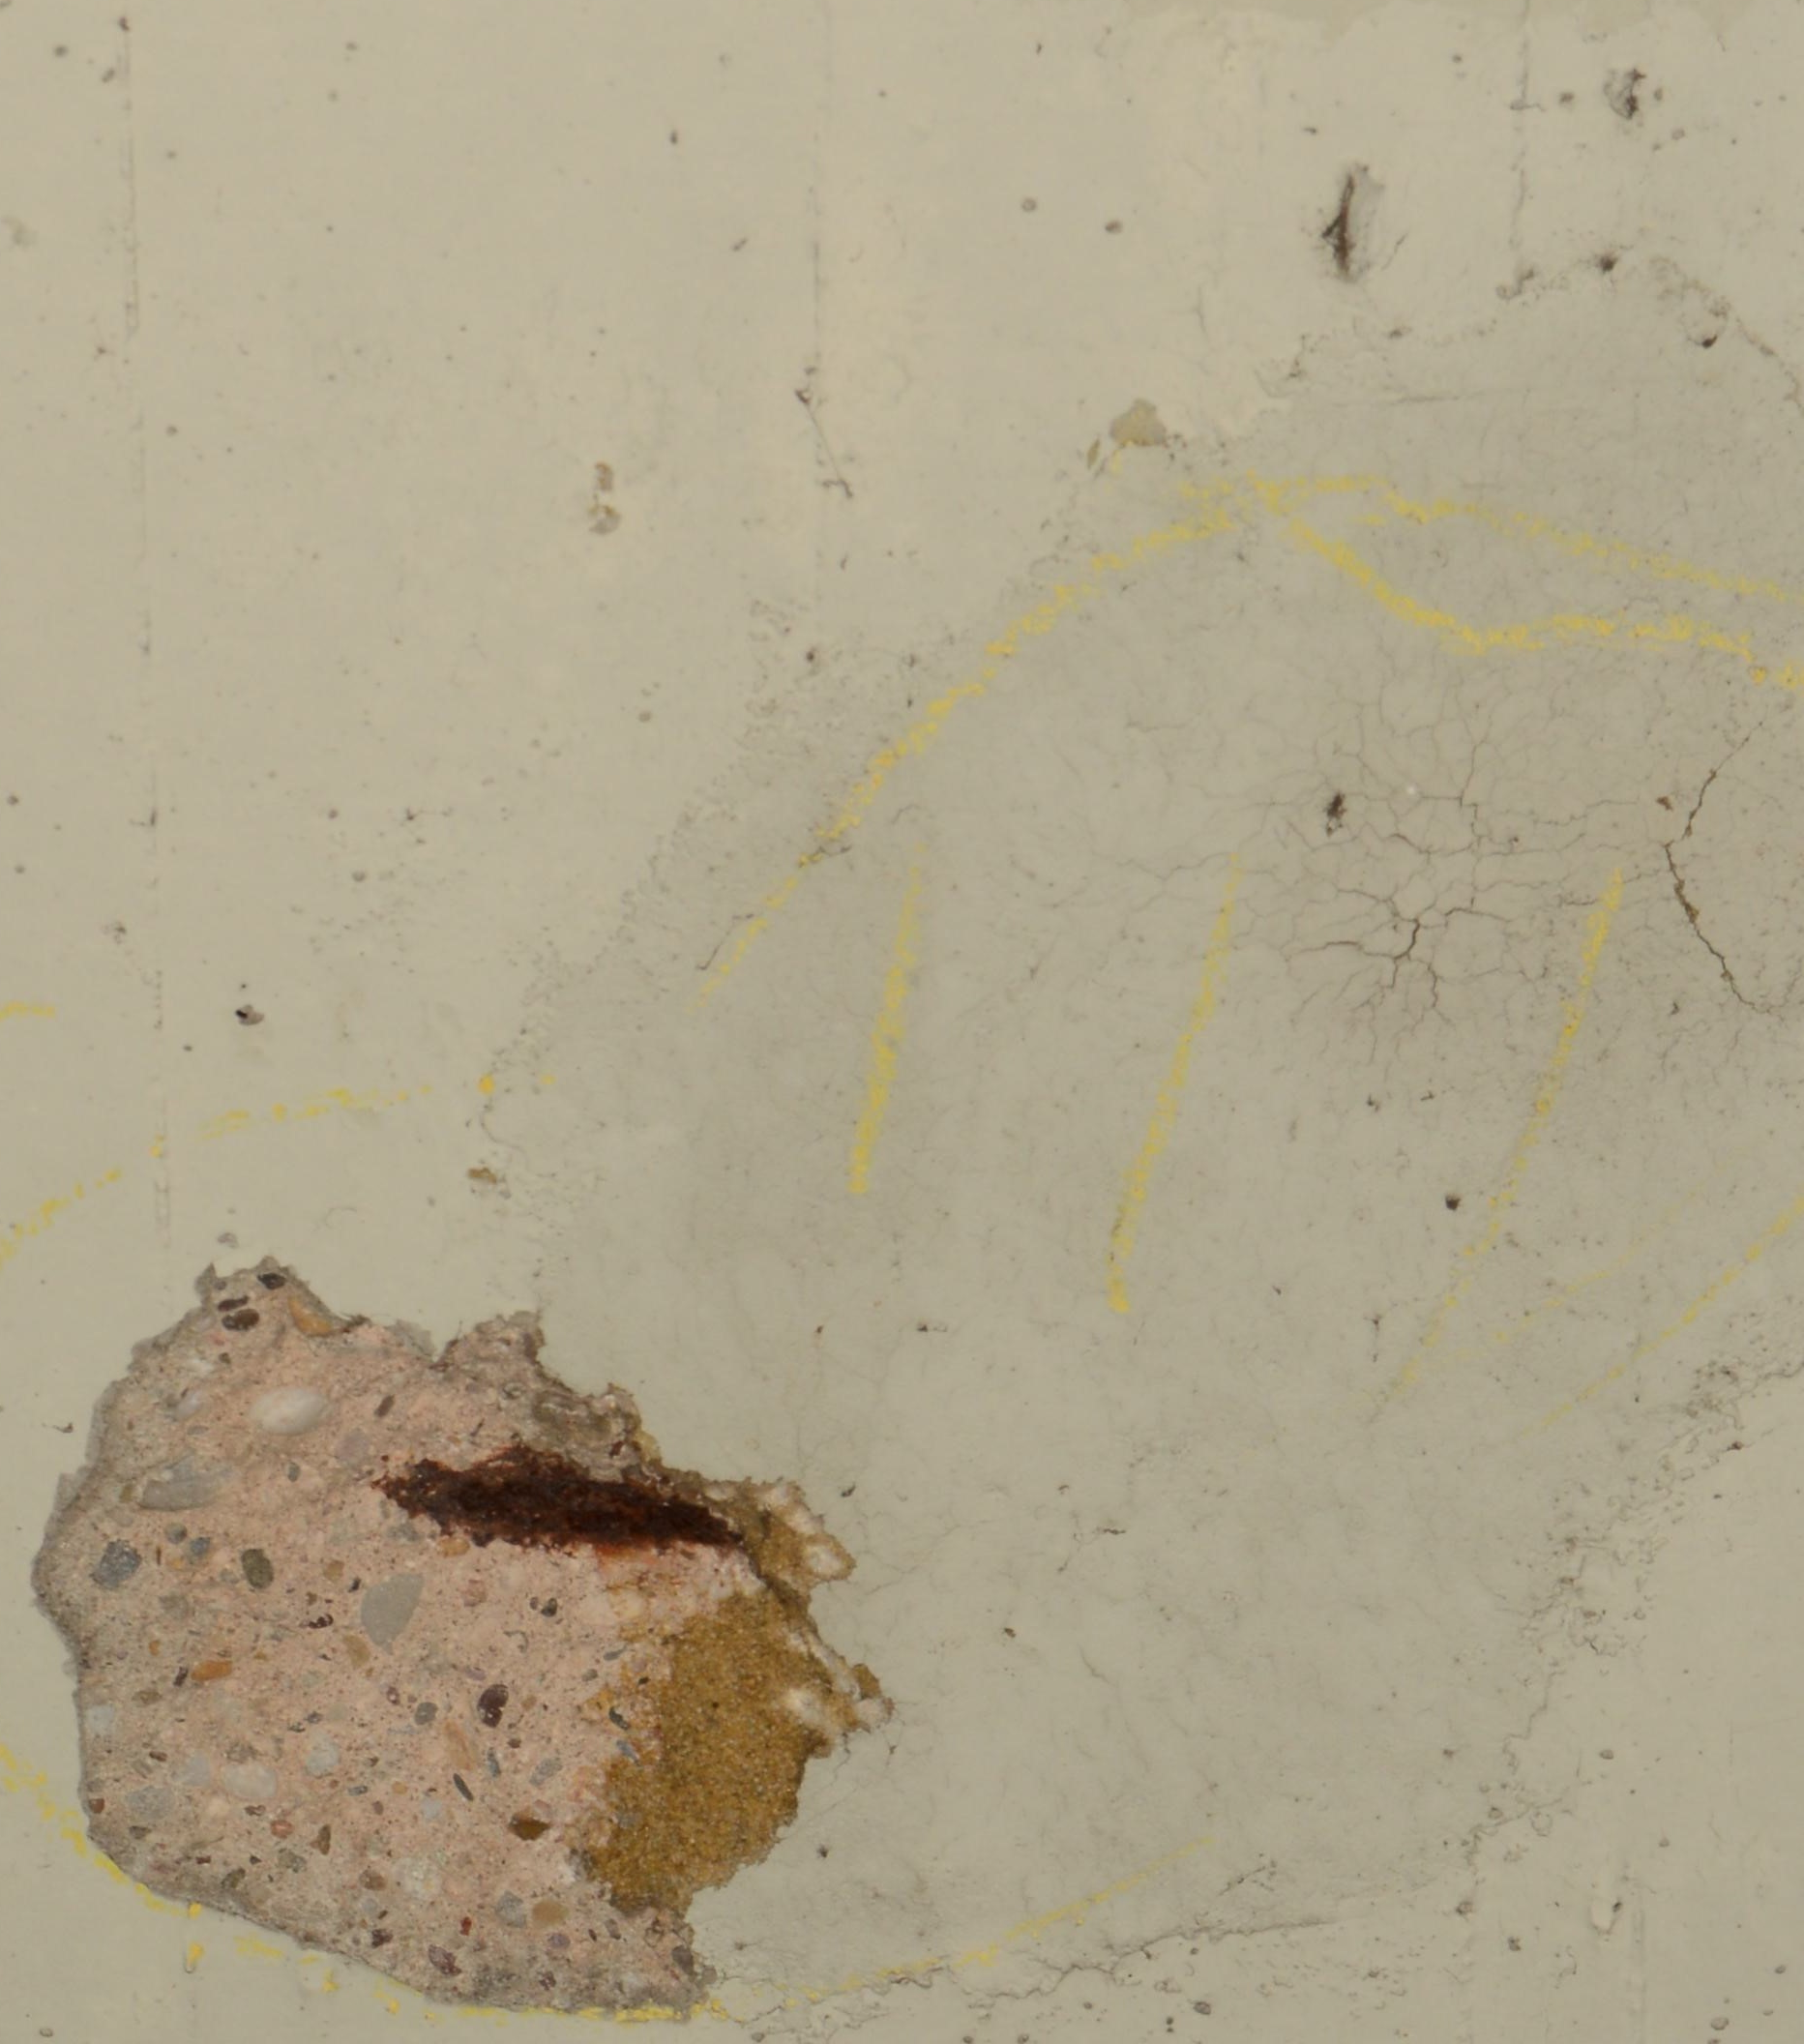Exposed reinforcement: (378, 1457, 735, 1550)
Spalling: (30, 1254, 895, 2020)
